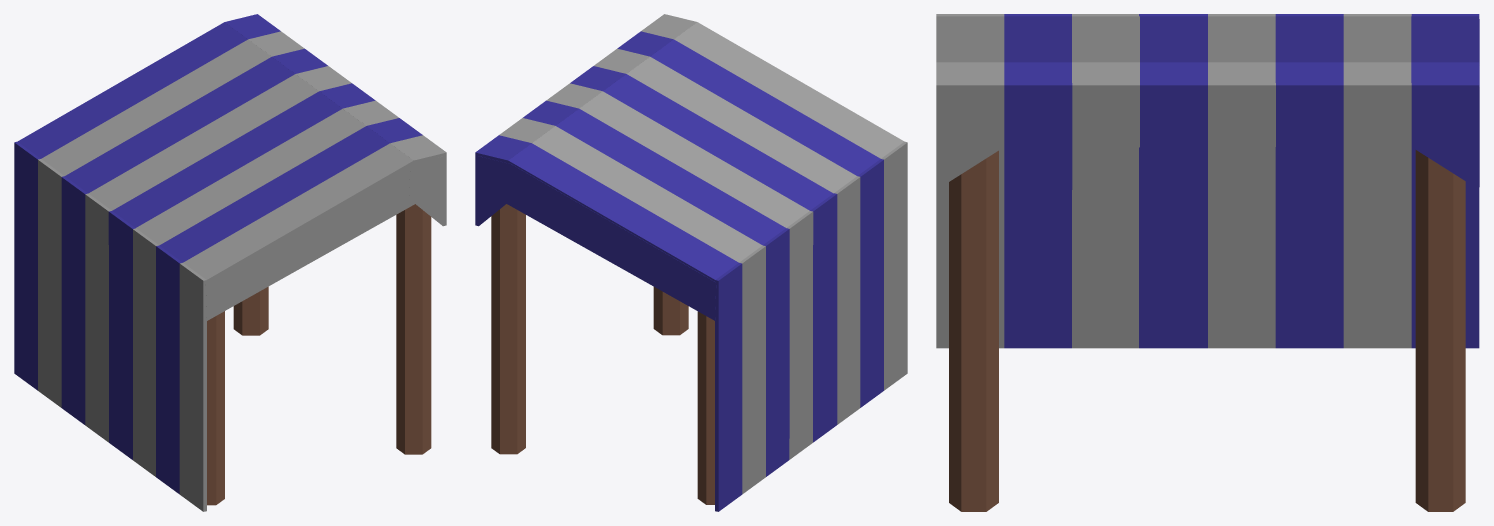
The model's file is MarketStandRoof.fbx.
The picture shows the model from 3 angles, left to right: view 1: azimuth 30°, elevation 25°; view 2: azimuth 150°, elevation 25°; view 3: azimuth 270°, elevation 25°; orthographic projection. The views are drawn at different scales.
Visible parts, largest first — view 1: Cube.060, Cylinder.128, Cylinder.129, Cylinder.127; view 2: Cube.060, Cylinder.127, Cylinder.130, Cylinder.128; view 3: Cube.060, Cylinder.127, Cylinder.128.
Part boxes in pixels (x1,y1,x2,y2): Cube.060: [14, 14, 446, 511]; Cylinder.128: [396, 204, 431, 454]; Cylinder.129: [207, 311, 224, 505]; Cylinder.127: [233, 286, 268, 335]; Cube.060: [475, 14, 907, 511]; Cylinder.127: [491, 204, 525, 454]; Cylinder.130: [697, 311, 714, 504]; Cylinder.128: [653, 287, 688, 335]; Cube.060: [936, 14, 1479, 348]; Cylinder.127: [1415, 150, 1465, 511]; Cylinder.128: [949, 150, 998, 511].
Bounding box in the file's own units: 326 × 385 × 439.
